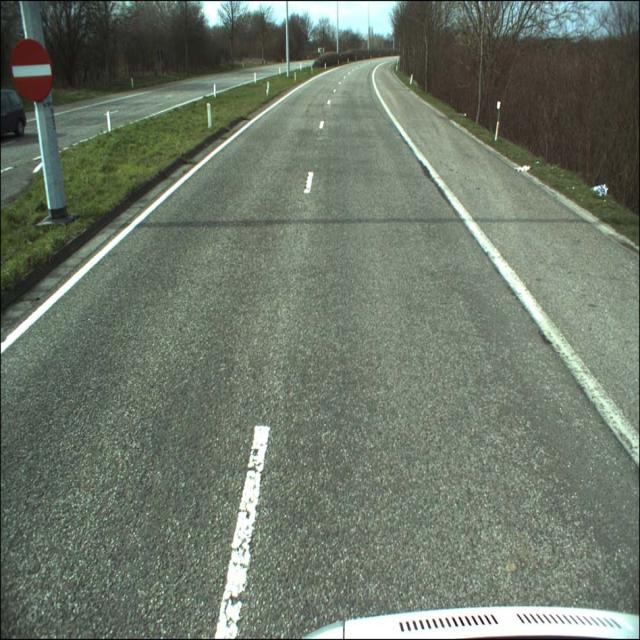girisyok: (9, 39, 54, 104)
